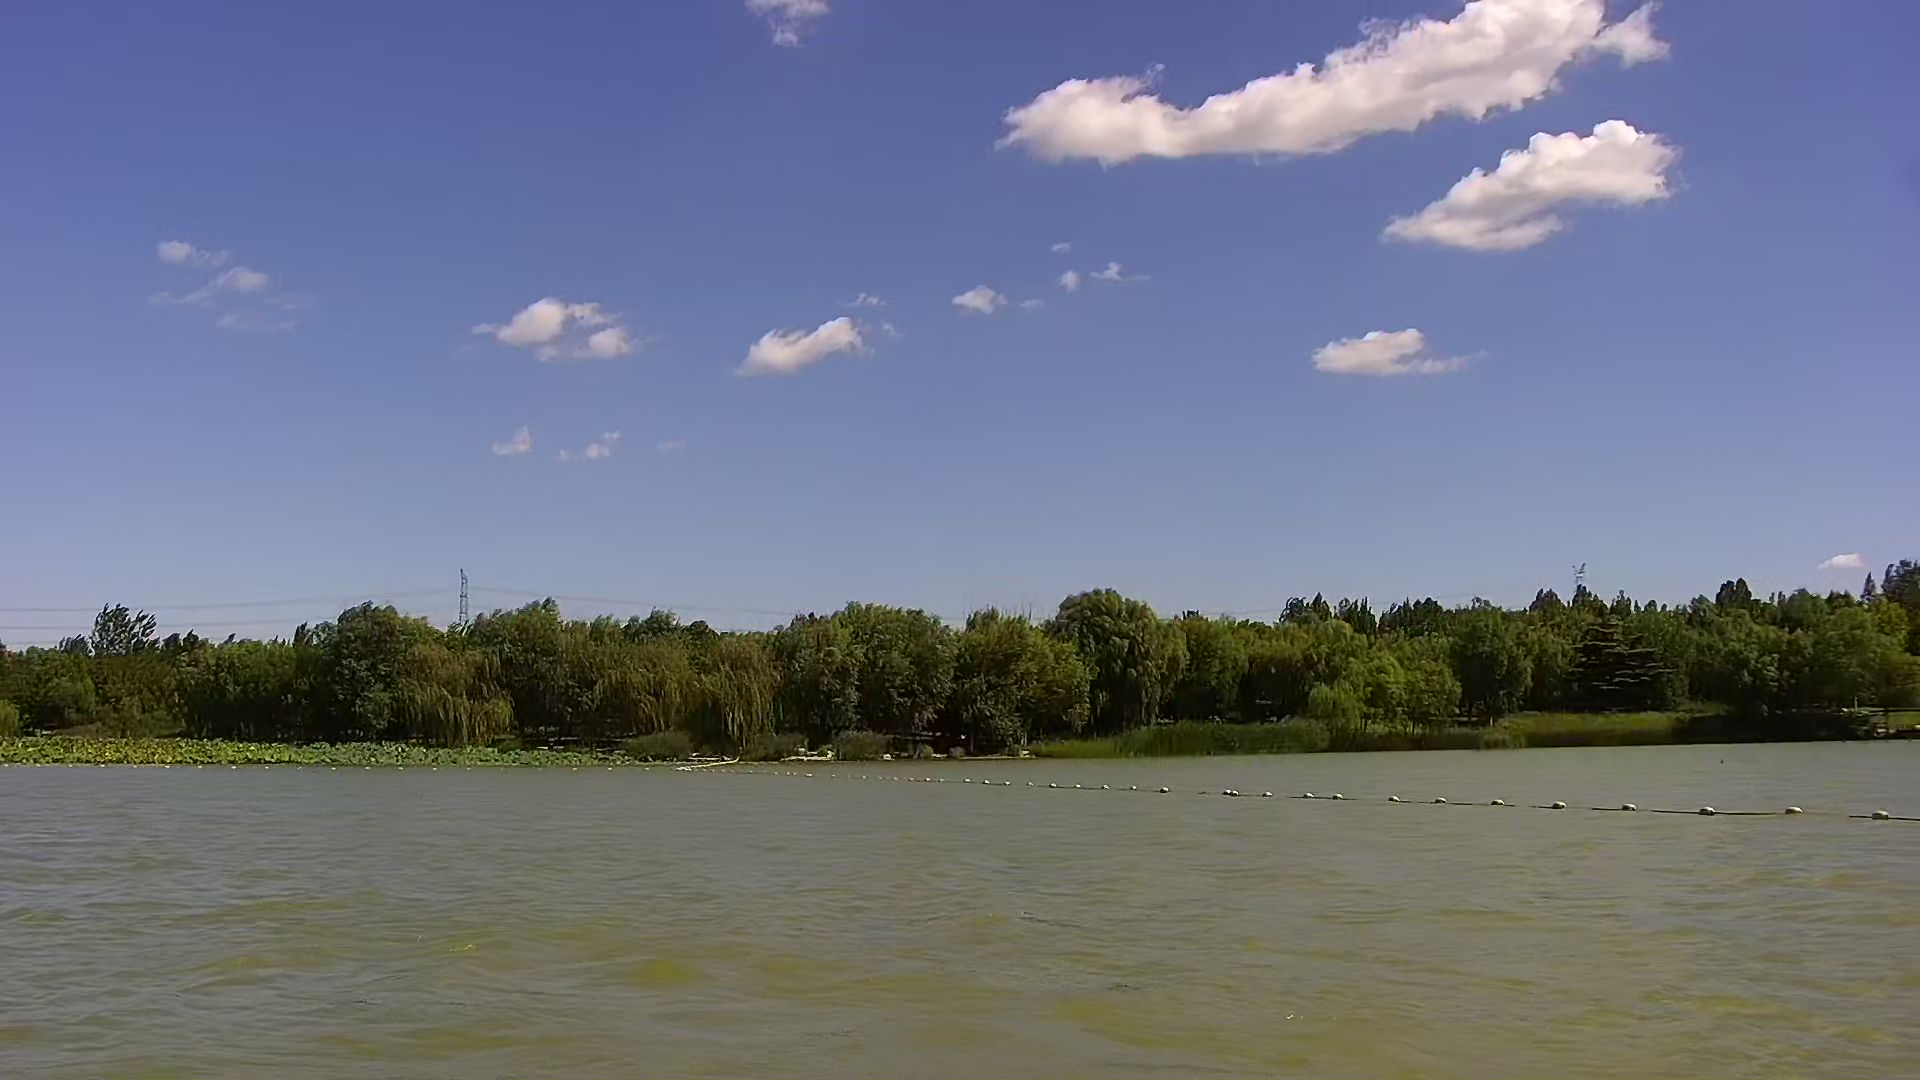ball: (1615, 785, 1659, 828), (1539, 782, 1586, 820), (1774, 786, 1818, 823), (1695, 790, 1733, 832), (1865, 800, 1902, 833), (1481, 790, 1515, 822), (1429, 781, 1457, 818), (1381, 775, 1404, 808)
